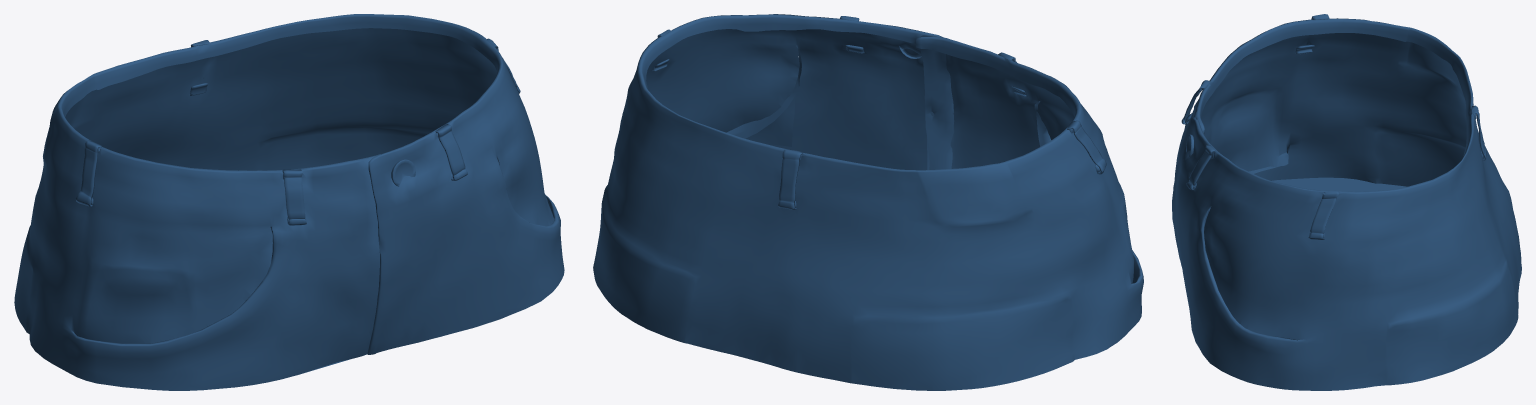
Rendered from pelvis.fbx.
The picture shows the model from 3 angles, left to right: view 1: azimuth 30°, elevation 25°; view 2: azimuth 150°, elevation 25°; view 3: azimuth 270°, elevation 25°; orthographic projection. The views are drawn at different scales.
Visible parts, largest first — view 1: pelvis-1; view 2: pelvis-1; view 3: pelvis-1.
Part boxes in pixels (x1,y1,x2,y2): pelvis-1: [14, 14, 564, 390]; pelvis-1: [593, 14, 1143, 390]; pelvis-1: [1172, 14, 1521, 390].
Bounding box in the file's own units: 0.1365 × 0.2371 × 0.3421.
